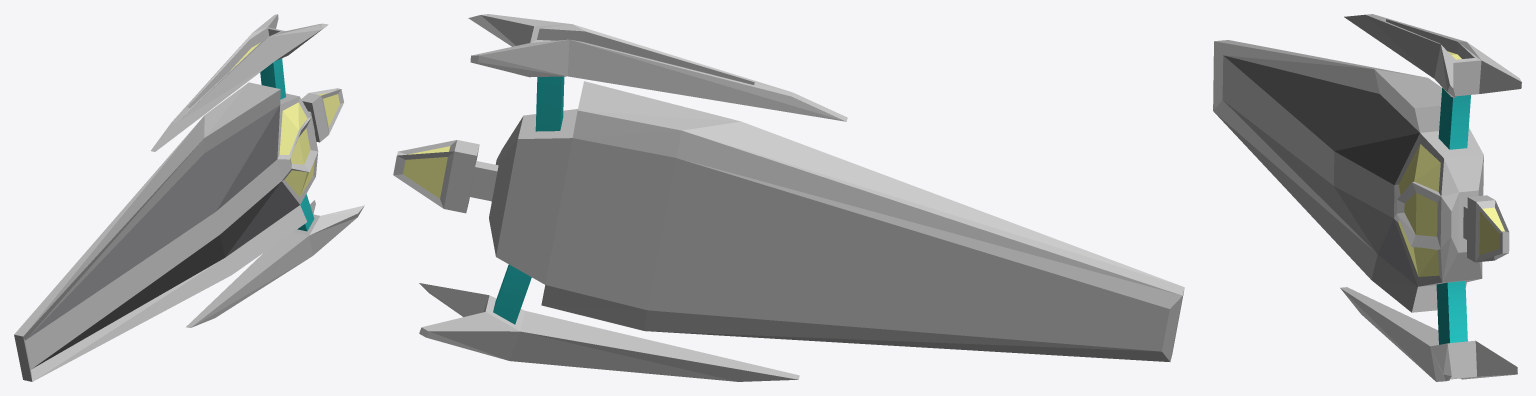
File: Ship_1x2_A1.fbx
The picture shows the model from 3 angles, left to right: view 1: azimuth 30°, elevation 25°; view 2: azimuth 150°, elevation 25°; view 3: azimuth 270°, elevation 25°; orthographic projection. The views are drawn at different scales.
Visible parts, largest first — view 1: Ship_1x2_A1; view 2: Ship_1x2_A1; view 3: Ship_1x2_A1.
Part boxes in pixels (x1=…): Ship_1x2_A1: x1=14, y1=14, x2=364, y2=381; Ship_1x2_A1: x1=393, y1=14, x2=1184, y2=381; Ship_1x2_A1: x1=1213, y1=14, x2=1521, y2=381.
Bounding box in the file's own units: 14.37 × 7.62 × 6.54.
